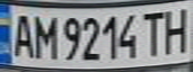1: (100, 11, 121, 61)
2: (78, 12, 103, 62)
4: (118, 10, 142, 60)
9: (57, 12, 81, 61)
A: (6, 10, 36, 58)
H: (160, 4, 193, 54)
M: (30, 11, 57, 60)
T: (139, 7, 169, 57)
